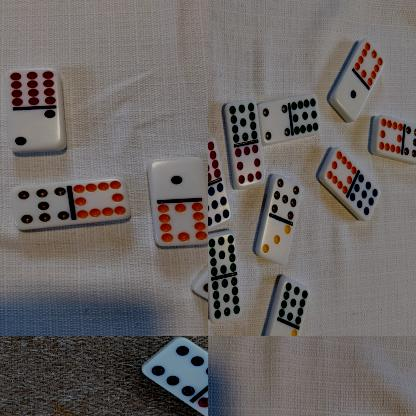pip-1: (148, 156, 205, 201), (334, 77, 366, 120)
pip-10: (155, 198, 208, 247), (72, 178, 129, 222), (352, 37, 384, 88), (325, 148, 356, 192), (377, 113, 403, 156)
pip-11: (211, 274, 240, 322), (225, 100, 258, 142), (279, 281, 307, 325), (208, 232, 237, 274), (290, 96, 320, 136)
pip-12: (4, 68, 58, 105), (208, 137, 220, 186)
pip-2: (5, 108, 62, 153)
pip-3: (260, 220, 293, 263), (264, 325, 297, 336)
pip-4: (259, 102, 290, 146)
pip-6: (143, 336, 208, 396)
pip-7: (11, 185, 72, 229), (271, 174, 302, 220), (194, 258, 208, 313), (403, 121, 416, 162)
pip-8: (233, 143, 264, 187)
pip-9: (350, 172, 380, 221), (208, 182, 230, 228)
